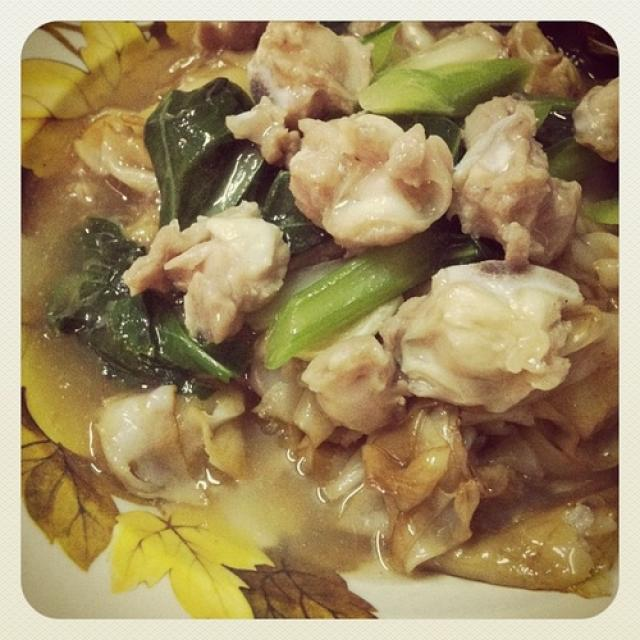面条主食: (37, 37, 606, 604)
